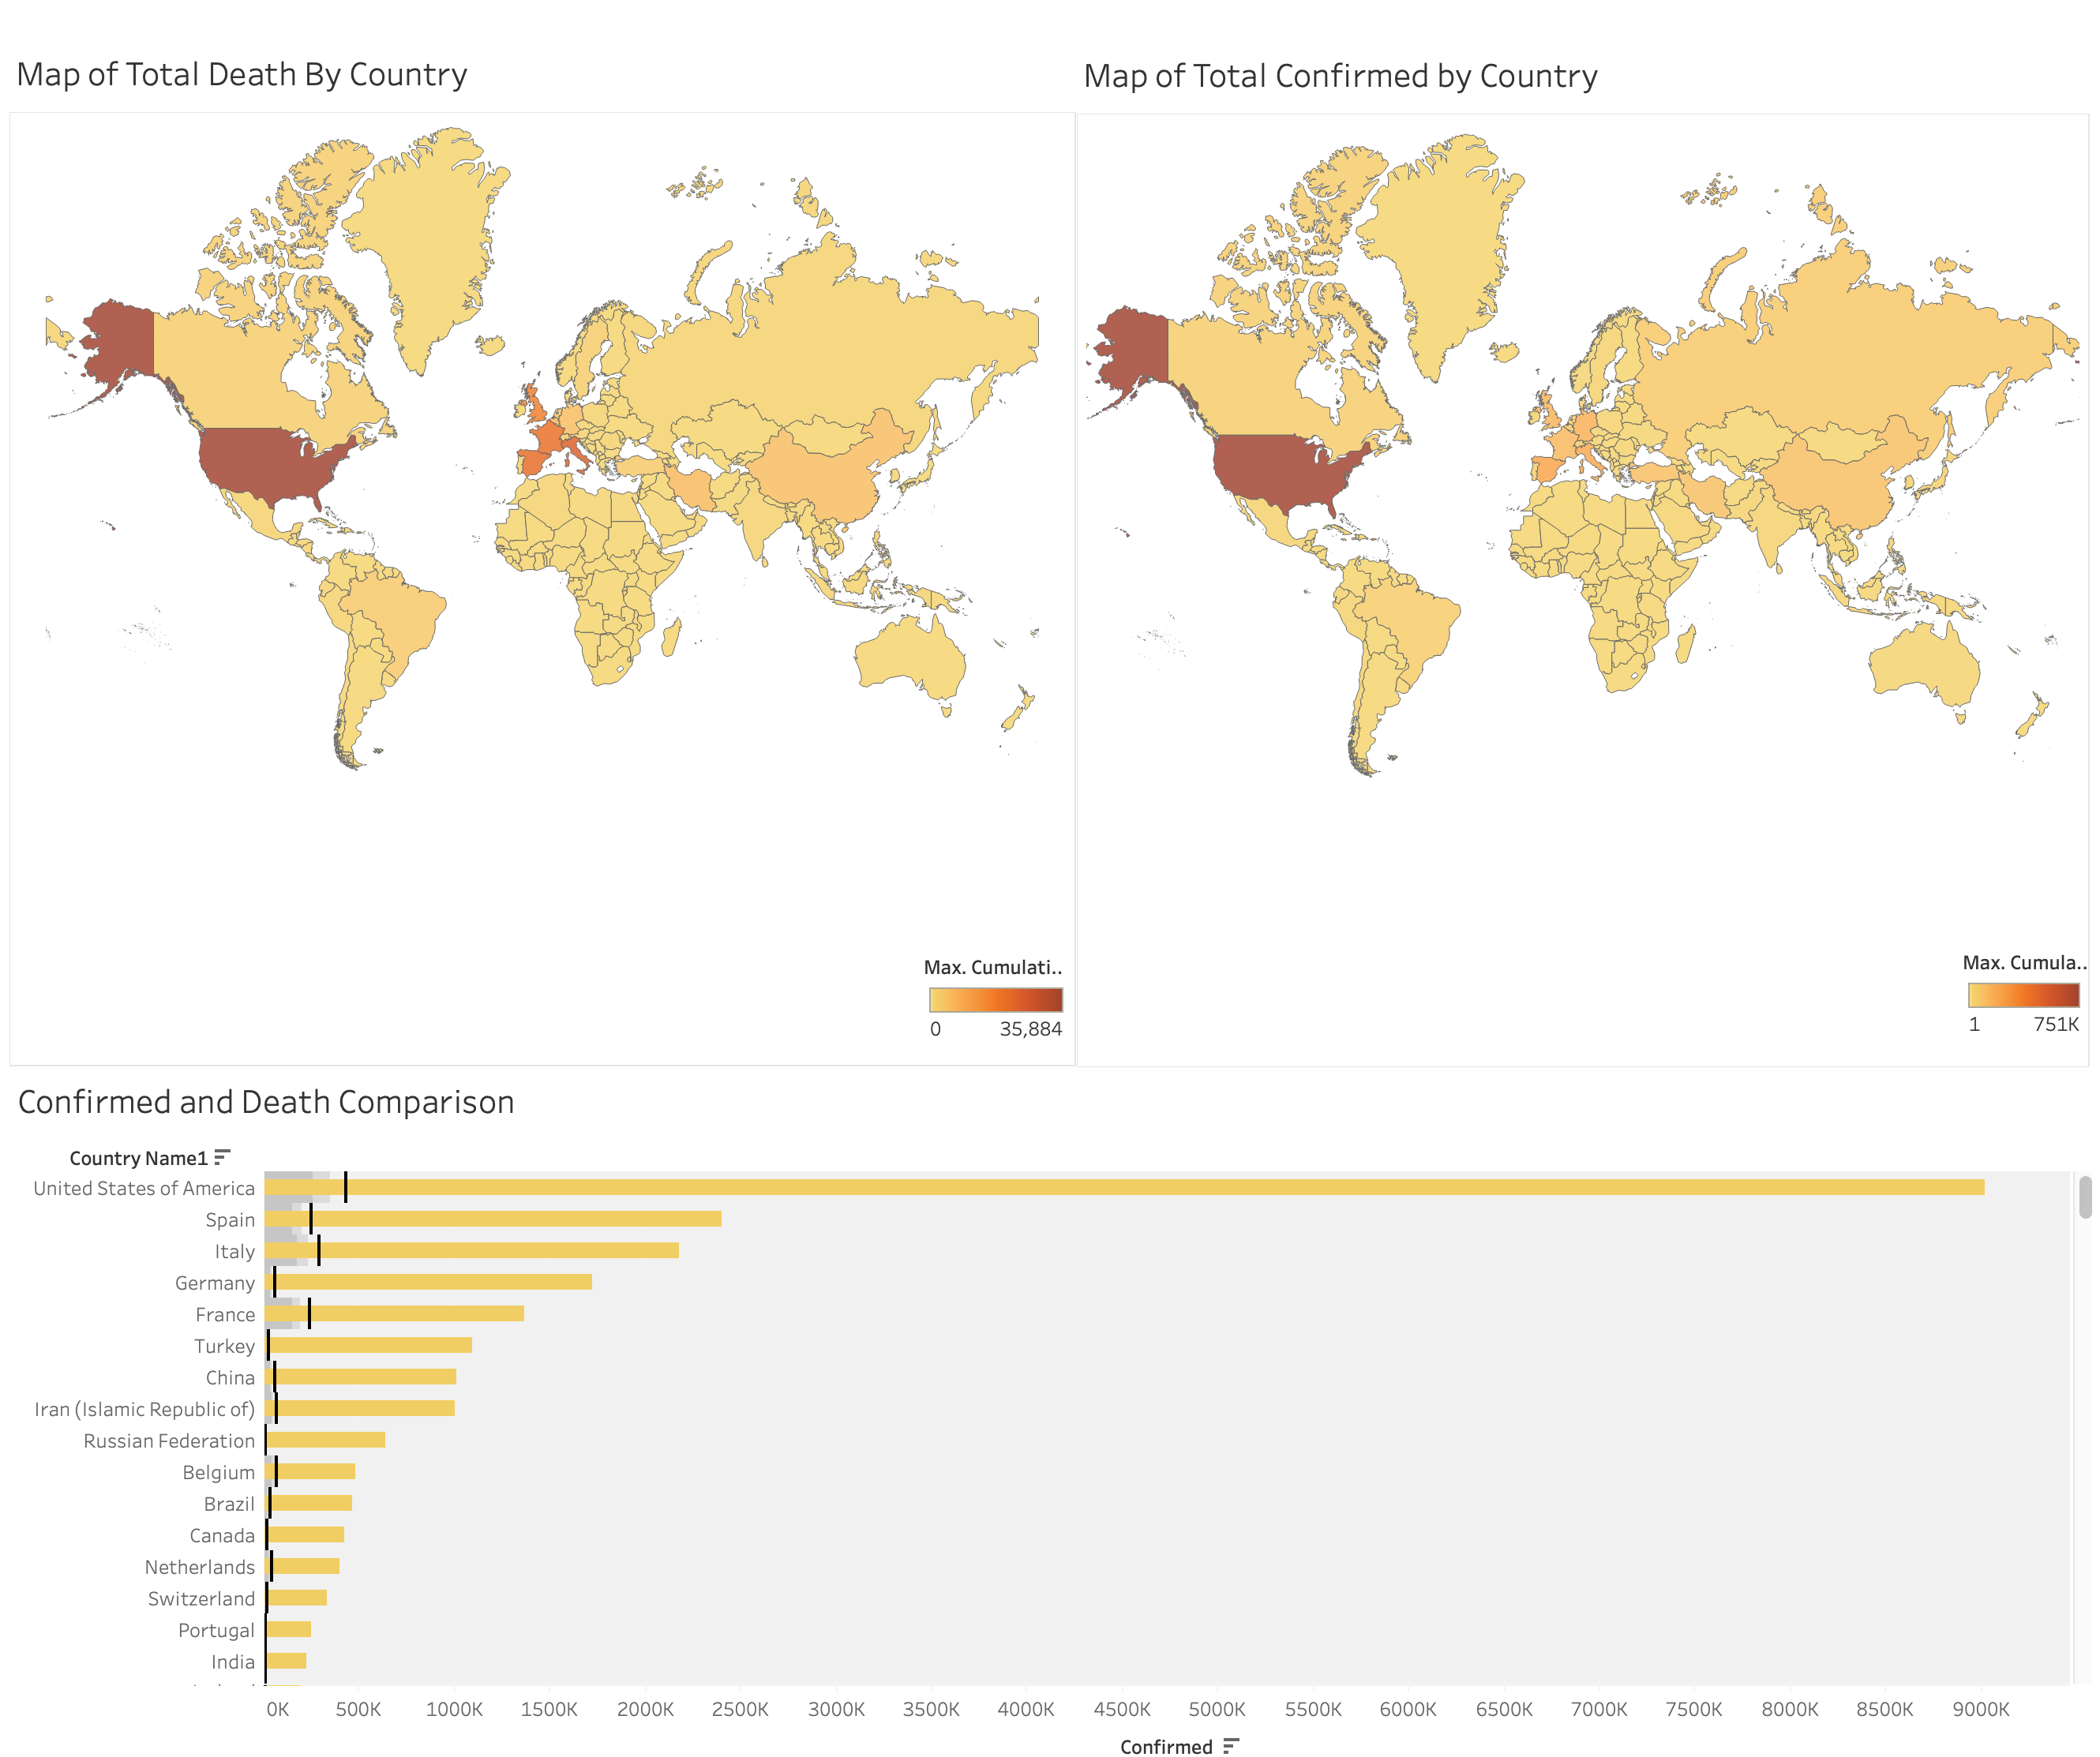

What the dashboard file says about the page in this screenshot:
{"tool":"tableau","page":{"name":"Maps","canvas":[1000,1000],"units":"permille","ordinal":0},"visuals":[{"type":"worksheet","title":"Map of Total Death By Country","mark":"Multipolygon","box":[0.8,0,512.1,590.9]},{"type":"worksheet","title":"Map of Total Confirmed by Country","mark":"Automatic","box":[513,0.8,486.6,590.9]},{"type":"legend","title":"Map of Total Confirmed by Country","param":"[federated.0yunbbt0vhf17111u0xy411w4rho].[sum:Confirmed:qk]","box":[937.9,522.4,59.6,65.2]},{"type":"legend","title":"Map of Total Death By Country","param":"[federated.0yunbbt0vhf17111u0xy411w4rho].[sum:Deaths:qk]","box":[439.8,525.7,70.7,61.9]},{"type":"worksheet","title":"Confimred and Death Comparison","mark":"Automatic","rows":["Country Name"],"cols":["Confirmed"],"box":[1.3,594.1,1000.4,404.2]}]}

Visuals, with their boxes on the dashboard's canvas, which has no fixed pixel size, in thousandths of its width and height (x1, y1, x2, y2). These are canvas units, not pixel positions in the 2100x1757 screenshot, which may show the page scaled, cropped or inside an application window:
"Map of Total Death By Country" worksheet (Multipolygon marks): bbox=(1, 0, 513, 591)
"Map of Total Confirmed by Country" worksheet: bbox=(513, 1, 1000, 592)
"Map of Total Confirmed by Country" legend: bbox=(938, 522, 998, 588)
"Map of Total Death By Country" legend: bbox=(440, 526, 510, 588)
"Confimred and Death Comparison" worksheet: bbox=(1, 594, 1002, 998)
